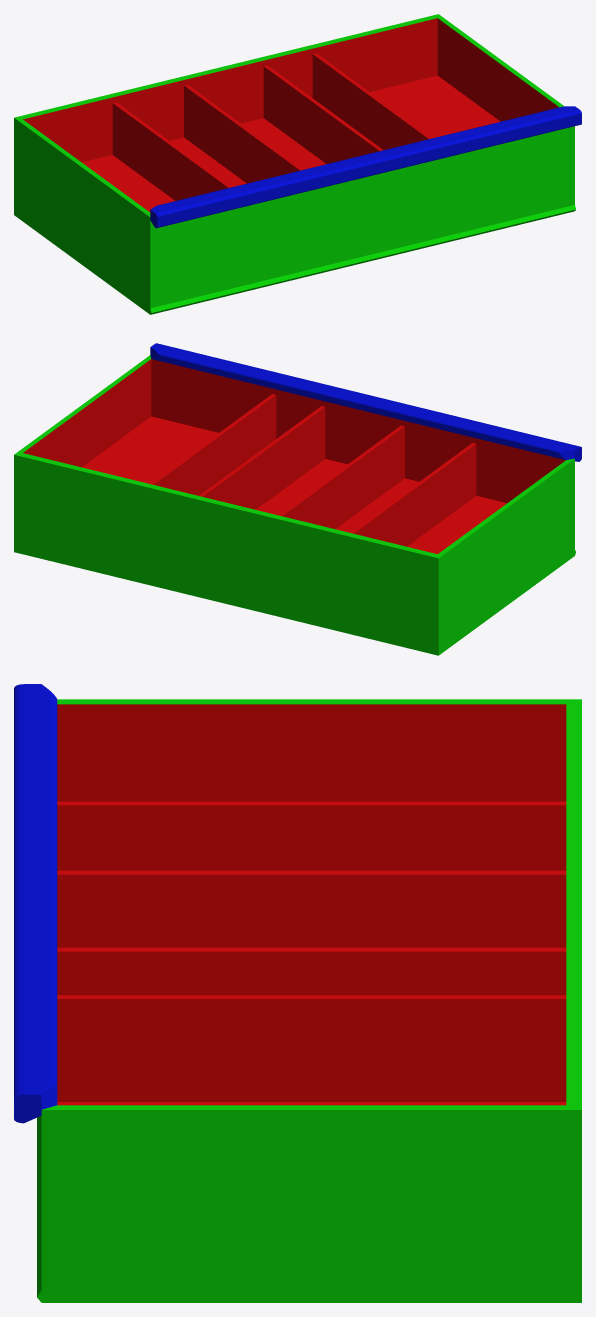
The model's file is BlueDrawer.fbx.
3 renders of one model, top to bottom at view 1: azimuth 30°, elevation 25°; view 2: azimuth 150°, elevation 25°; view 3: azimuth 270°, elevation 25°, orthographic. The views are drawn at different scales.
Parts seen in each view (by area): view 1: BlueDrawer; view 2: BlueDrawer; view 3: BlueDrawer.
Boxes of the visible parts, x1,y1,x2,y2 form: BlueDrawer: (14,14,581,314); BlueDrawer: (14,343,581,655); BlueDrawer: (14,684,581,1302).
Size of the model in its own units: 97.81 by 23.14 by 57.2.
